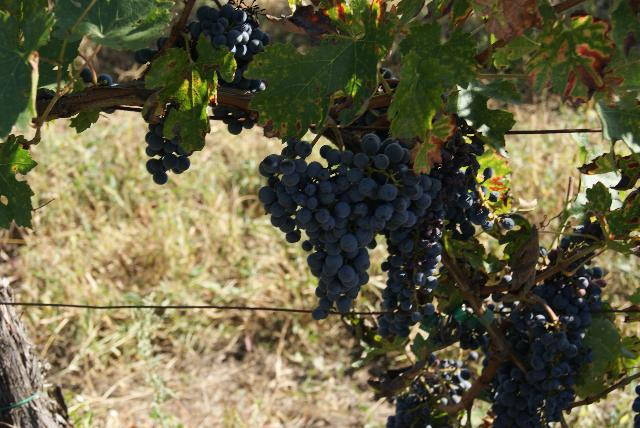grapes: (300, 134, 441, 319), (490, 305, 594, 428), (189, 4, 270, 92), (259, 138, 312, 242), (212, 106, 252, 135)
